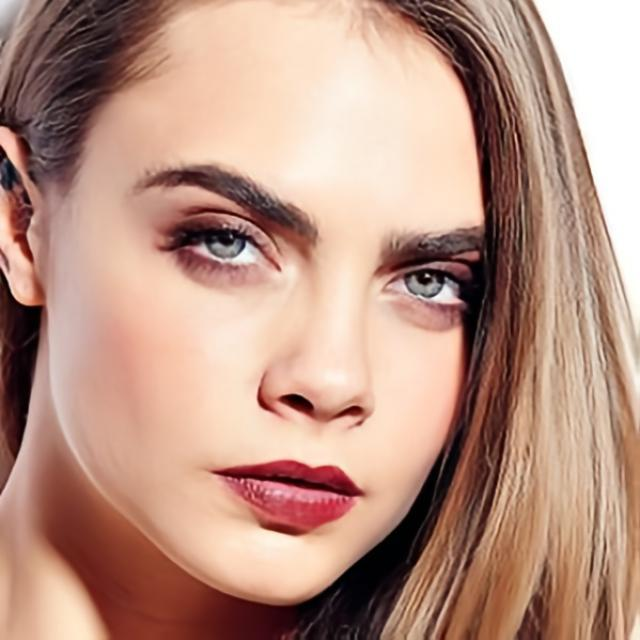anger: (54, 20, 504, 604)
